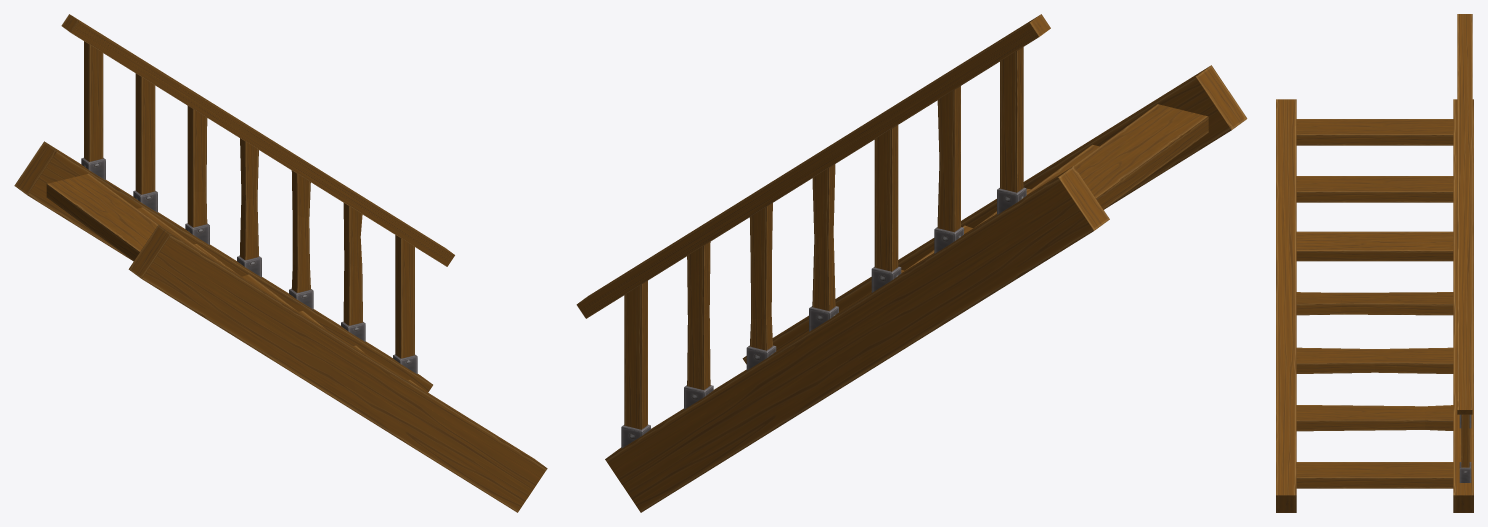
The model's file is SM_Stairs_Exterior_Wood_01.fbx.
3 views of the same model, side by side, from view 1: azimuth 30°, elevation 25°; view 2: azimuth 150°, elevation 25°; view 3: azimuth 270°, elevation 25° (orthographic). The views are drawn at different scales.
Visible parts, largest first — view 1: SM_Stairs_Exterior_Wood_01; view 2: SM_Stairs_Exterior_Wood_01; view 3: SM_Stairs_Exterior_Wood_01.
Part boxes in pixels (x1,y1,x2,y2): SM_Stairs_Exterior_Wood_01: [14, 14, 547, 512]; SM_Stairs_Exterior_Wood_01: [576, 14, 1247, 512]; SM_Stairs_Exterior_Wood_01: [1276, 14, 1473, 512].
Bounding box in the file's own units: 3.32 × 3.57 × 1.7.
